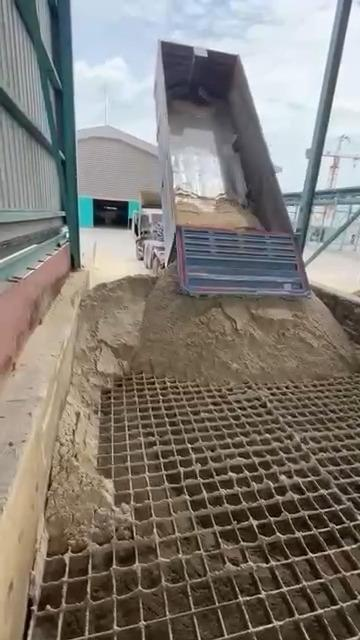sand: (47, 271, 355, 552), (176, 189, 262, 229)
